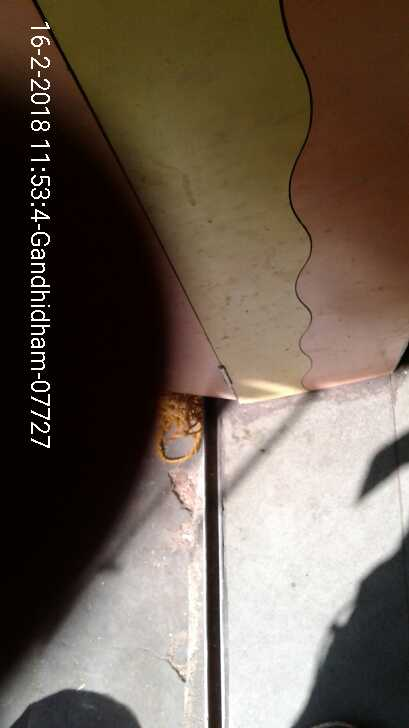reject: (169, 303, 250, 413)
